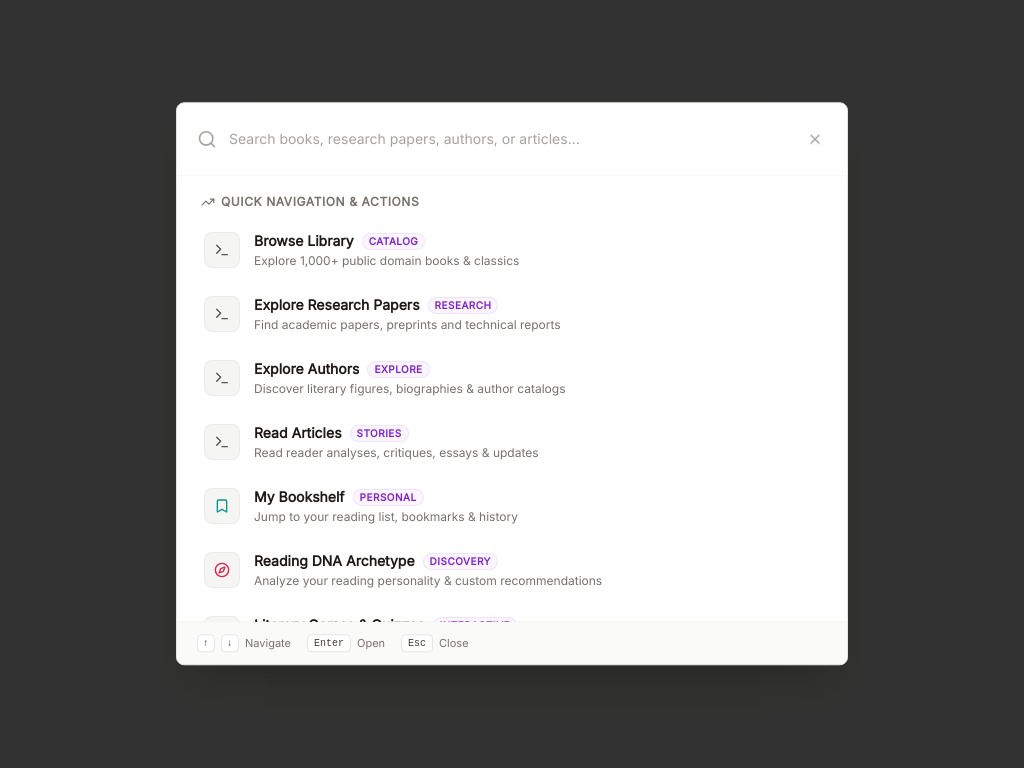
EnhancedGlobalSearch Multi-Category Search › is resilient when one table query fails via Promise.allSettled
Type "Resilient" into the field with placeholder "Search books, research papers, authors, or articles..." at (516, 139), box [229,119,803,159]
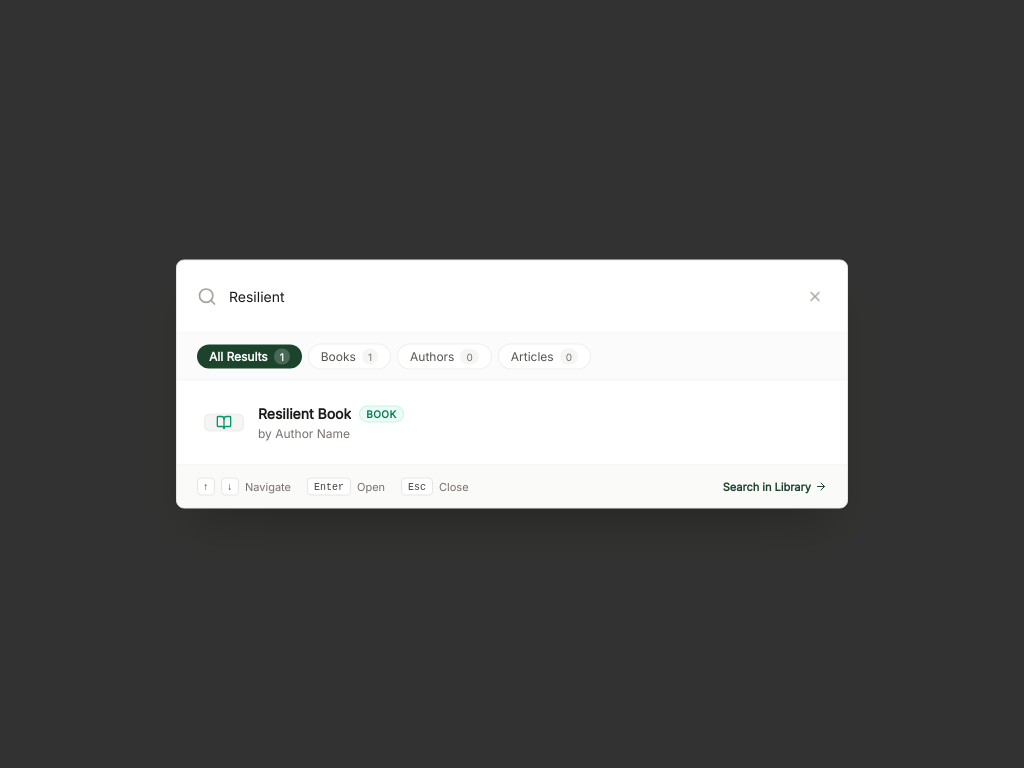
expect the text "Resilient Book" is shown: met, box [258,404,351,424]
